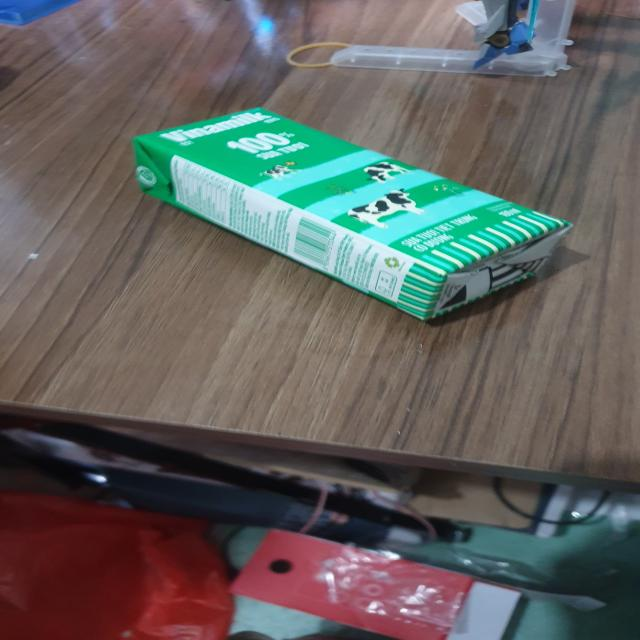Vina: (136, 107, 565, 326)
